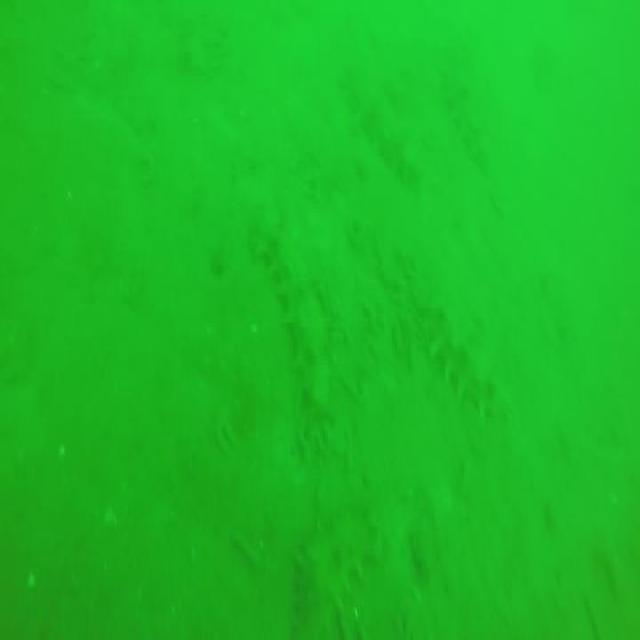holothurian: (249, 194, 331, 414), (290, 486, 386, 640), (343, 46, 426, 185), (426, 294, 514, 417), (446, 54, 492, 170)
